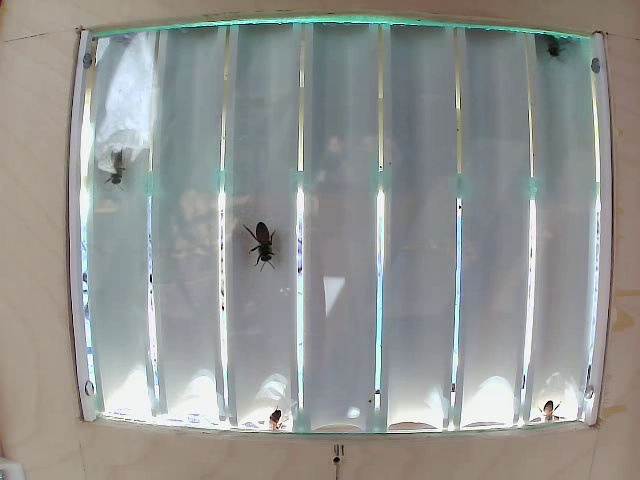bee: (236, 213, 291, 265), (101, 145, 139, 193)
